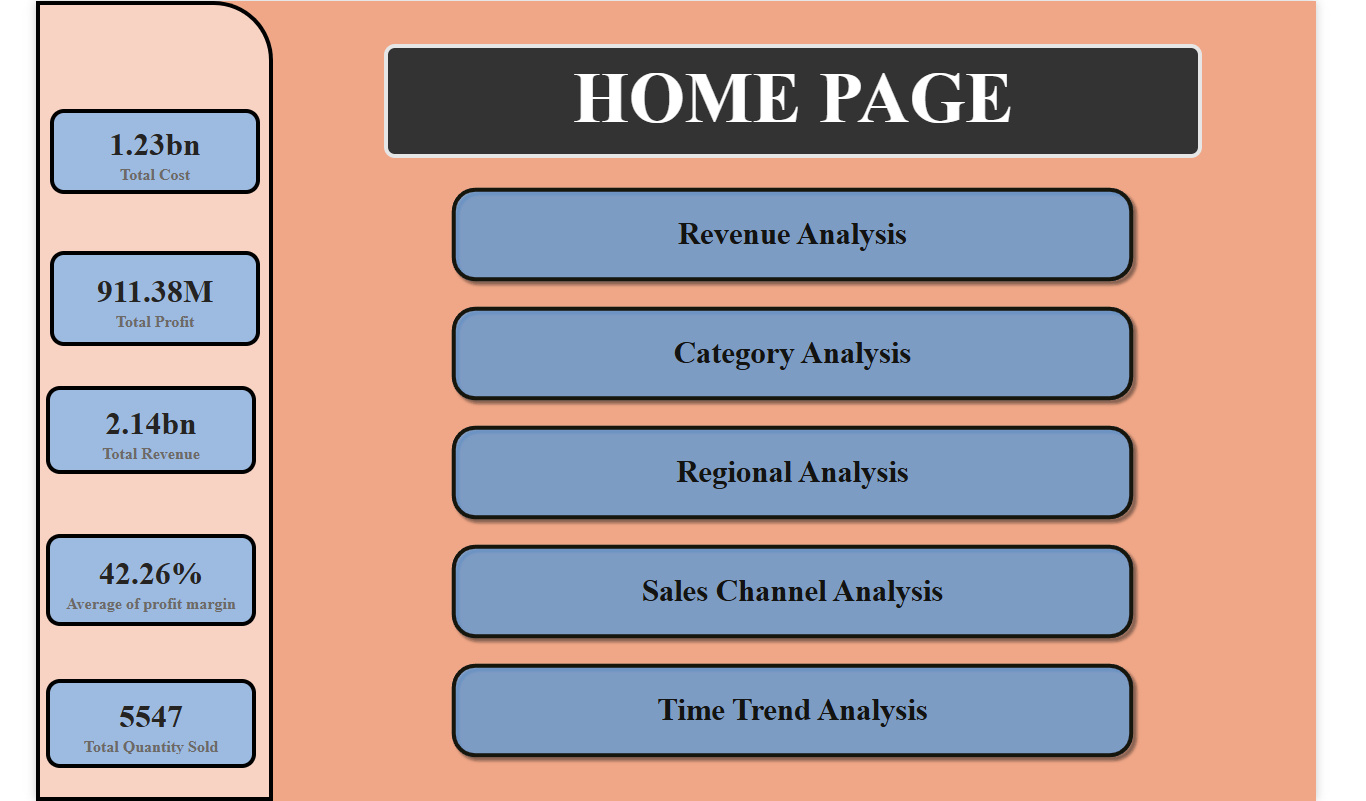

The page's visual inventory and layout, read from the dashboard file:
{"tool":"powerbi","page":{"name":"Home","canvas":[1280,800],"ordinal":0},"visuals":[{"type":"shape","box":[0,0,237,800],"z":0},{"type":"pageNavigator","box":[408,179,697,587],"z":1000},{"type":"textbox","box":[348,43,818,114],"z":2000},{"type":"card","fields":{"Values":["📦 Raw Data.Total Cost"]},"box":[14,108,210,85],"z":3000},{"type":"card","fields":{"Values":["📦 Raw Data.Total Profit"]},"box":[14,250,210,95],"z":4000},{"type":"card","fields":{"Values":["📦 Raw Data.Total Quantity Sold"]},"box":[10,678,210,89],"z":5000},{"type":"card","fields":{"Values":["📦 Raw Data.Total Revenue"]},"box":[10,385,210,88],"z":6000},{"type":"card","fields":{"Values":["Avg(📦 Raw Data.Proit Margin)"]},"box":[10,533,210,92],"z":7000}]}

Visuals, with their boxes in screenshot pixels (x1, y1, x2, y2):
shape: bbox=[32, 0, 266, 789]
pageNavigator: bbox=[435, 177, 1122, 756]
textbox: bbox=[375, 42, 1182, 155]
card - 📦 Raw Data.Total Cost: bbox=[46, 107, 253, 190]
card - 📦 Raw Data.Total Profit: bbox=[46, 247, 253, 340]
card - 📦 Raw Data.Total Quantity Sold: bbox=[42, 669, 249, 757]
card - 📦 Raw Data.Total Revenue: bbox=[42, 380, 249, 467]
card - Avg(📦 Raw Data.Proit Margin): bbox=[42, 526, 249, 617]
